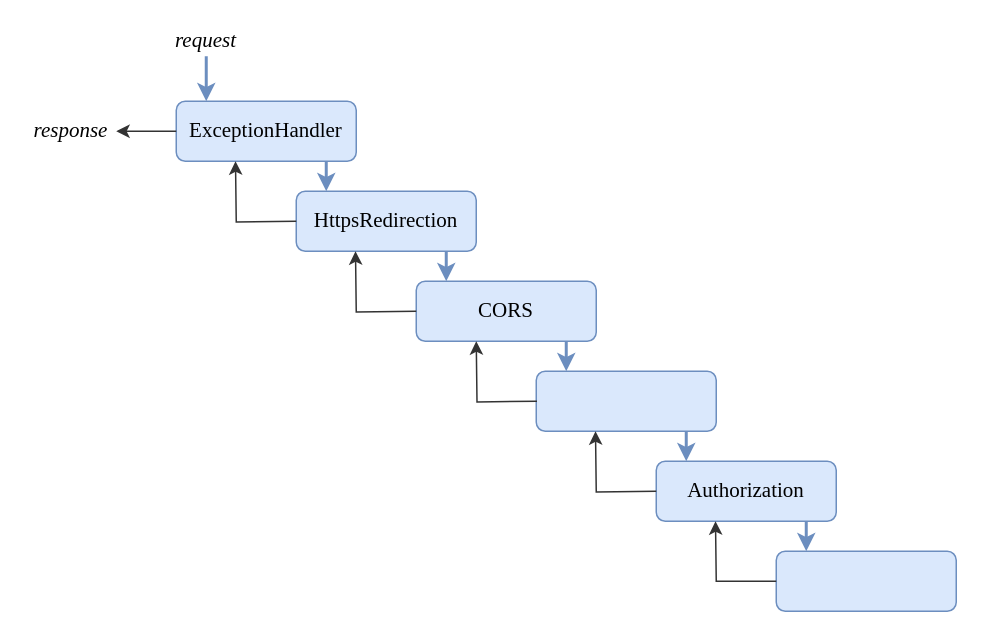
This 983x638 diagram has some shape labels left out. The shapes that lost their labels are listed below. From the top down, each one's centre as x and y in pixels, then its label:
(625,400): Authentication
(865,580): Endpoint
